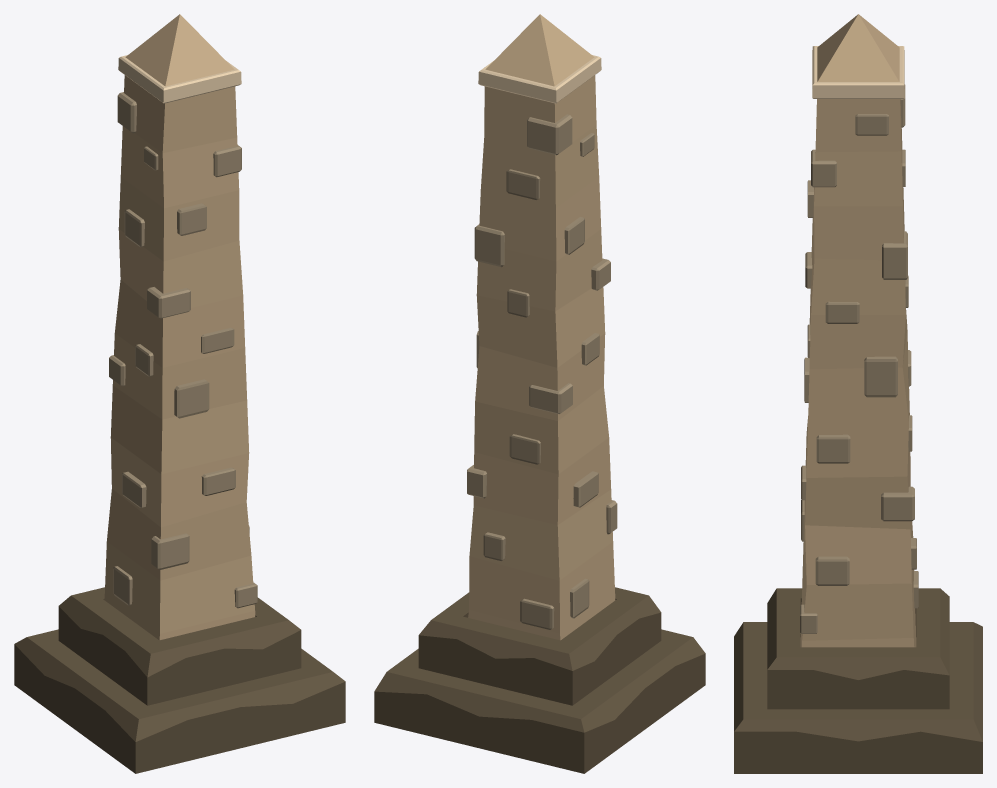
File: Obelisk.fbx
3 views of the same model, side by side, from view 1: azimuth 30°, elevation 25°; view 2: azimuth 150°, elevation 25°; view 3: azimuth 270°, elevation 25° (orthographic). The views are drawn at different scales.
Visible parts, largest first — view 1: obelisk; view 2: obelisk; view 3: obelisk.
Part boxes in pixels (bbox=[...]): obelisk: bbox=[14, 14, 345, 773]; obelisk: bbox=[374, 14, 705, 773]; obelisk: bbox=[734, 14, 982, 773].
Bounding box in the file's own units: 1249 × 3920 × 1249.
